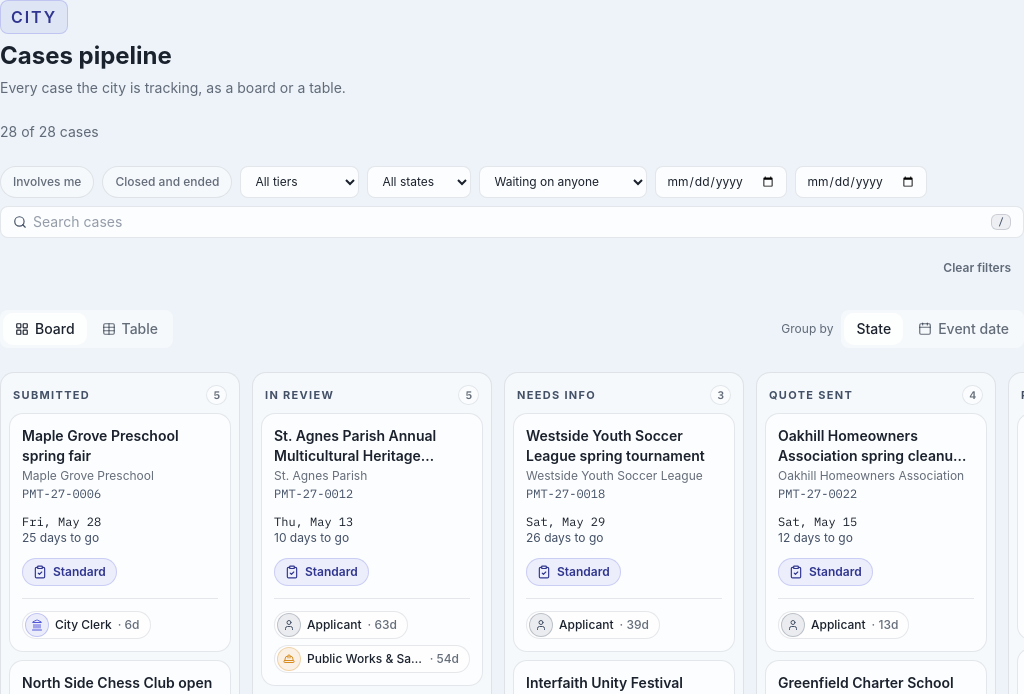
Scenario: Cases pipeline › turning on Closed and ended shows a Denied case
Click the button "Closed and ended".
click(167, 182)  # box [102, 166, 232, 198]
(page scrolled)
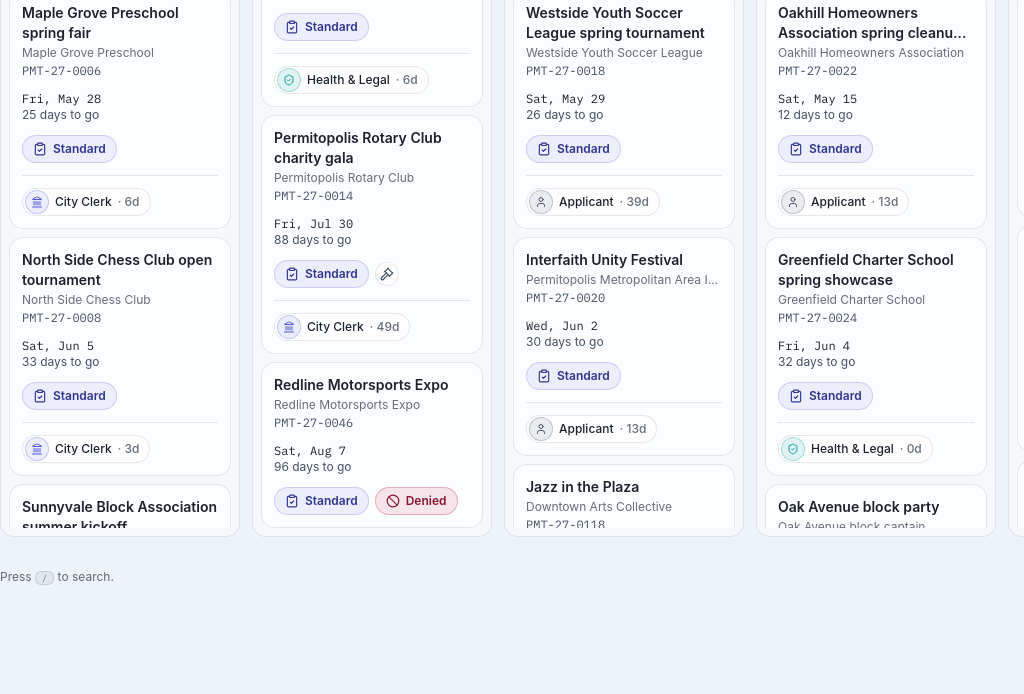
Now the 1st text "Redline Motorsports Expo" is shown, box [274, 375, 470, 395]
